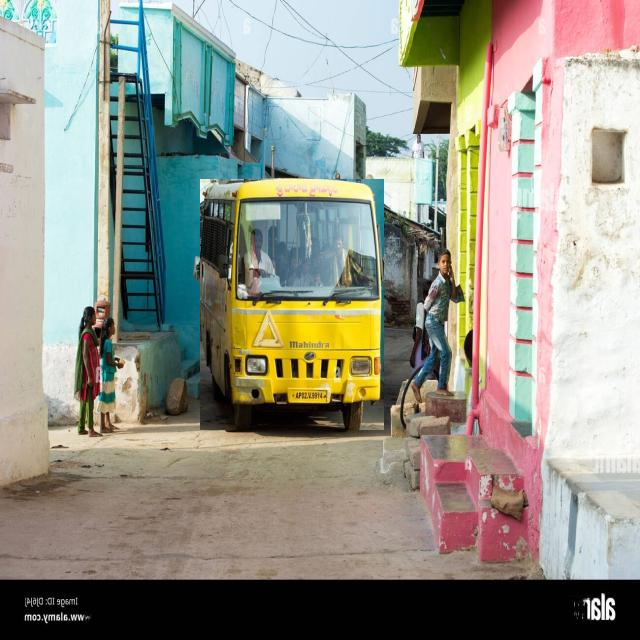bus: (200, 179, 384, 430)
